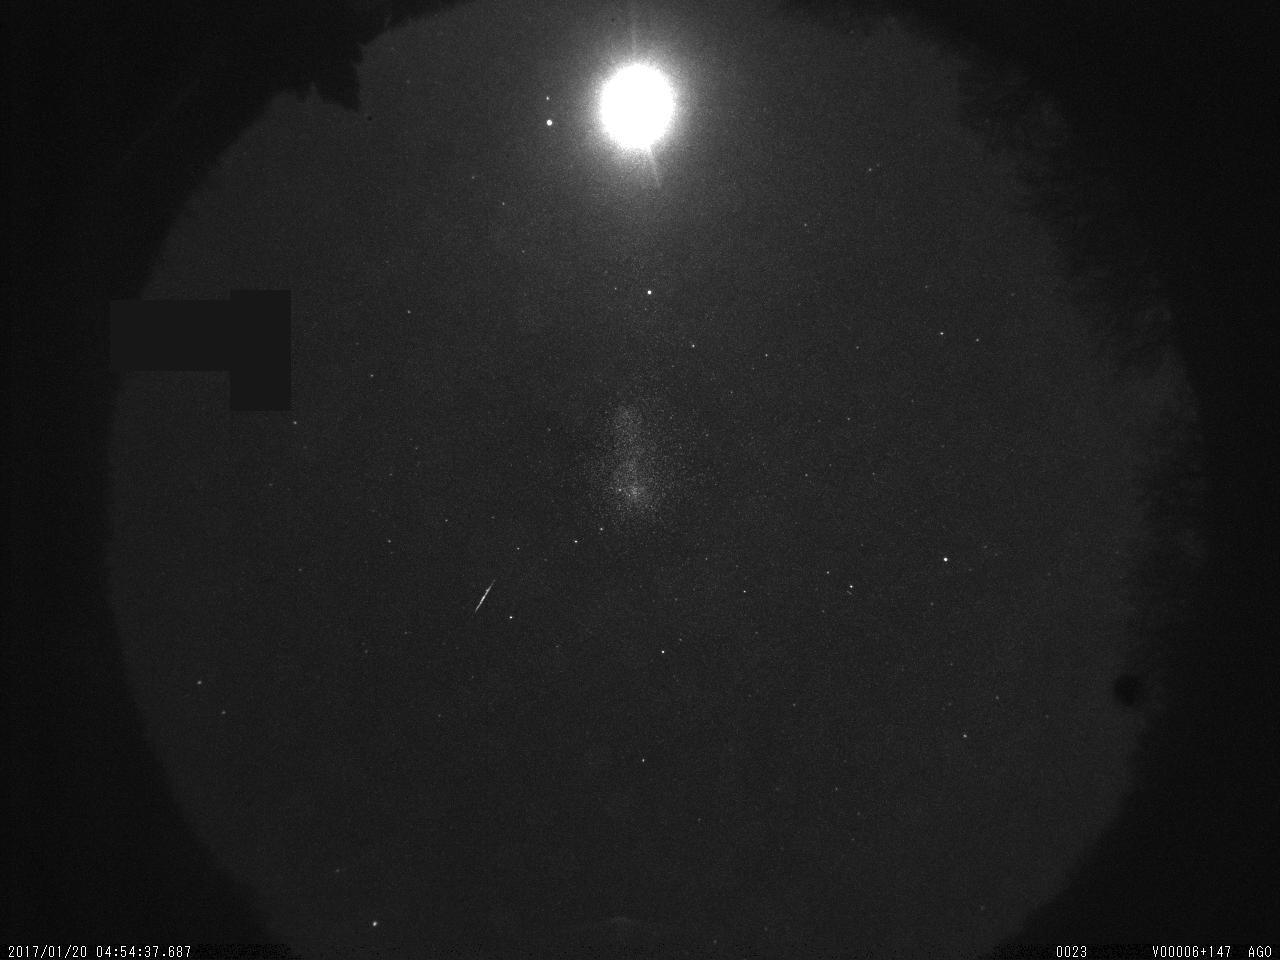meteor: (472, 570, 495, 623)
